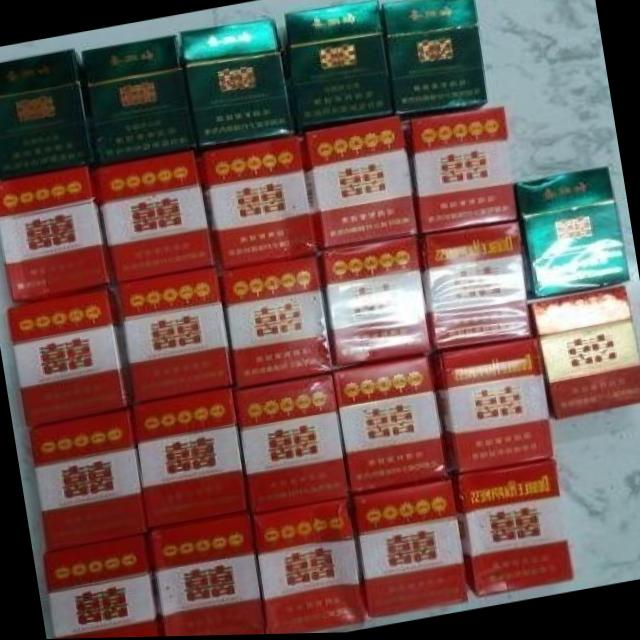box: (7, 285, 130, 428), (110, 270, 237, 407), (29, 407, 150, 550), (431, 340, 556, 477), (130, 388, 251, 529), (91, 147, 214, 285), (249, 495, 369, 635), (452, 461, 573, 599), (353, 476, 468, 621), (297, 115, 420, 249), (233, 372, 347, 514), (197, 137, 318, 270), (214, 256, 335, 388), (335, 355, 446, 496), (512, 168, 628, 301), (0, 164, 110, 304), (316, 237, 431, 370), (420, 221, 535, 353), (527, 287, 640, 421), (179, 19, 296, 147), (79, 34, 195, 163), (149, 513, 267, 637), (284, 1, 395, 129), (407, 109, 518, 235), (0, 47, 97, 180), (44, 531, 161, 639), (383, 0, 488, 119)
